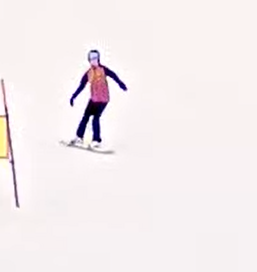snowboarder: (53, 44, 132, 156)
